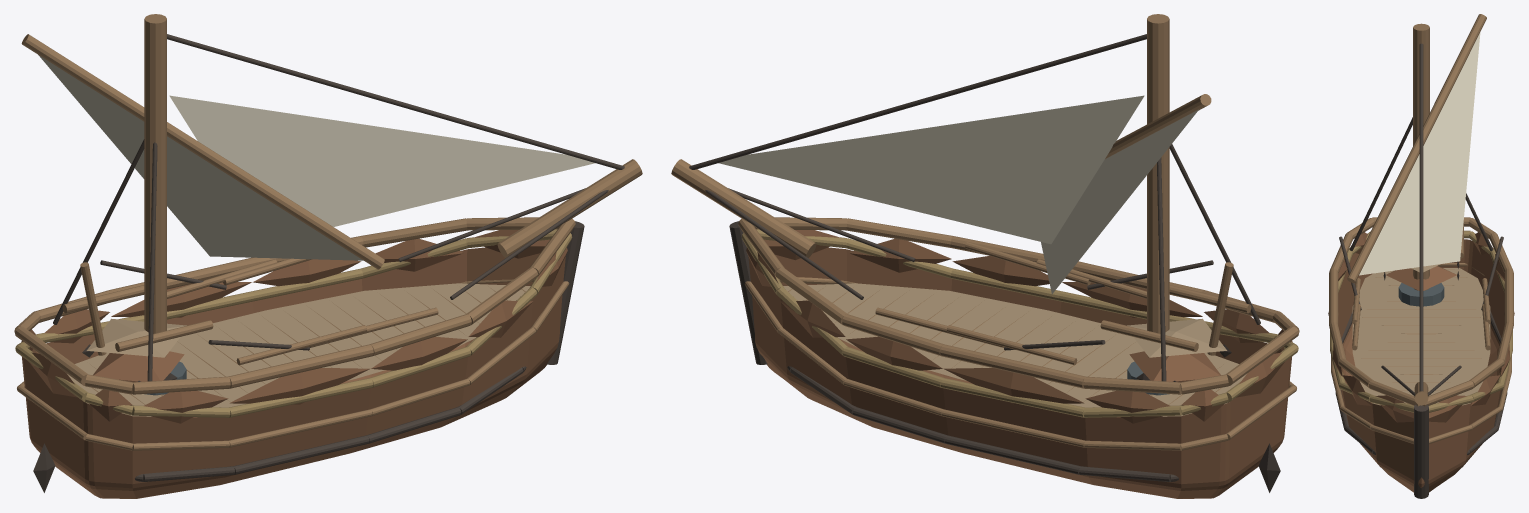
File: cutter.glb
3 renders of one model, left to right at view 1: azimuth 30°, elevation 25°; view 2: azimuth 150°, elevation 25°; view 3: azimuth 270°, elevation 25°, orthographic. The views are drawn at different scales.
Parts seen in each view (by area): view 1: Hull; view 2: Hull; view 3: Hull.
Part boxes in pixels (x1,y1,x2,y2): Hull: (14,14,642,498); Hull: (671,14,1299,498); Hull: (1328,14,1514,498).
Size of the model in its own units: 136 by 96 by 48.8.
